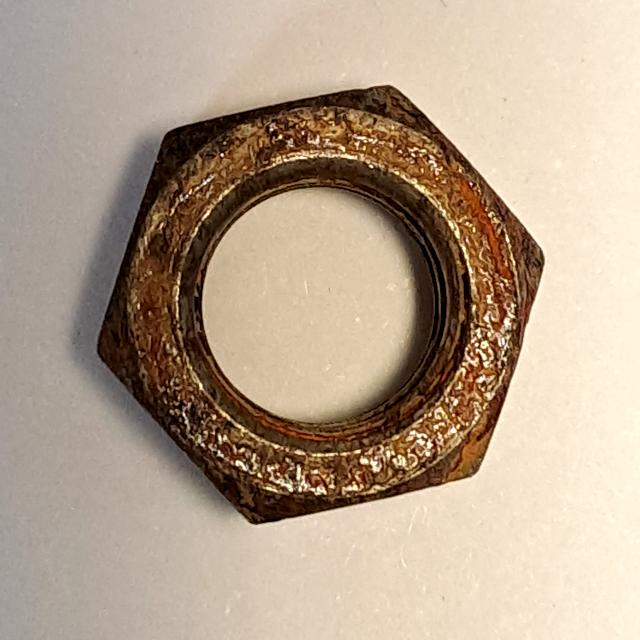Rust: (76, 49, 561, 548)
